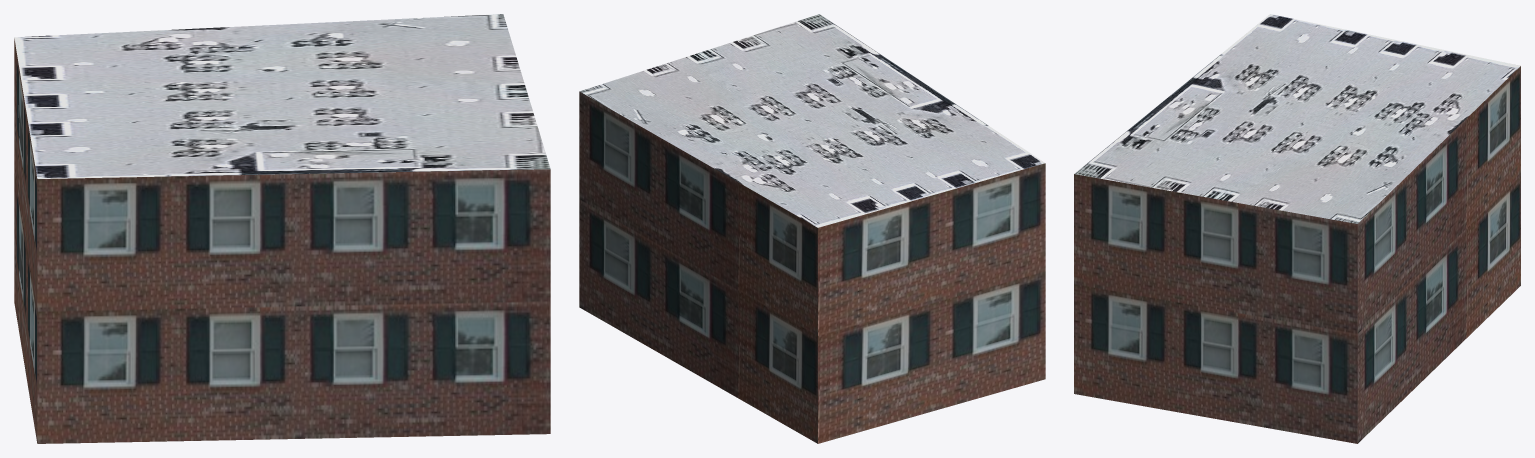
Rendered from ResTex__4895.fbx.
The picture shows the model from 3 angles, left to right: view 1: azimuth 30°, elevation 25°; view 2: azimuth 150°, elevation 25°; view 3: azimuth 270°, elevation 25°; orthographic projection. The views are drawn at different scales.
Visible parts, largest first — view 1: CityEngineMaterial_14_m, CityEngineMaterial_8_m; view 2: CityEngineMaterial_14_m, CityEngineMaterial_8_m; view 3: CityEngineMaterial_14_m, CityEngineMaterial_8_m.
Part boxes in pixels (<box>): CityEngineMaterial_14_m: <box>14,39,550,443</box>; CityEngineMaterial_8_m: <box>14,14,550,178</box>; CityEngineMaterial_14_m: <box>579,91,1045,443</box>; CityEngineMaterial_8_m: <box>580,14,1044,227</box>; CityEngineMaterial_14_m: <box>1074,66,1520,443</box>; CityEngineMaterial_8_m: <box>1074,14,1520,223</box>.
Bounding box in the file's own units: 12.29 × 6 × 11.05.
2 materials, 2 textured.
